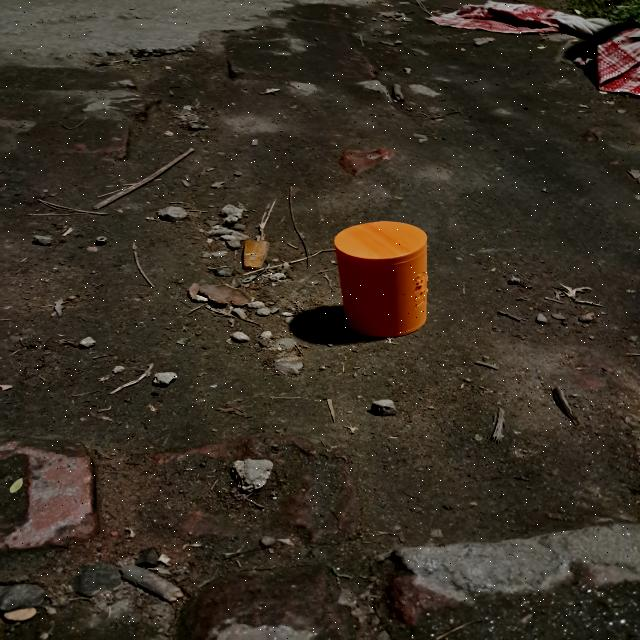Cylinder: (332, 220, 429, 338)
